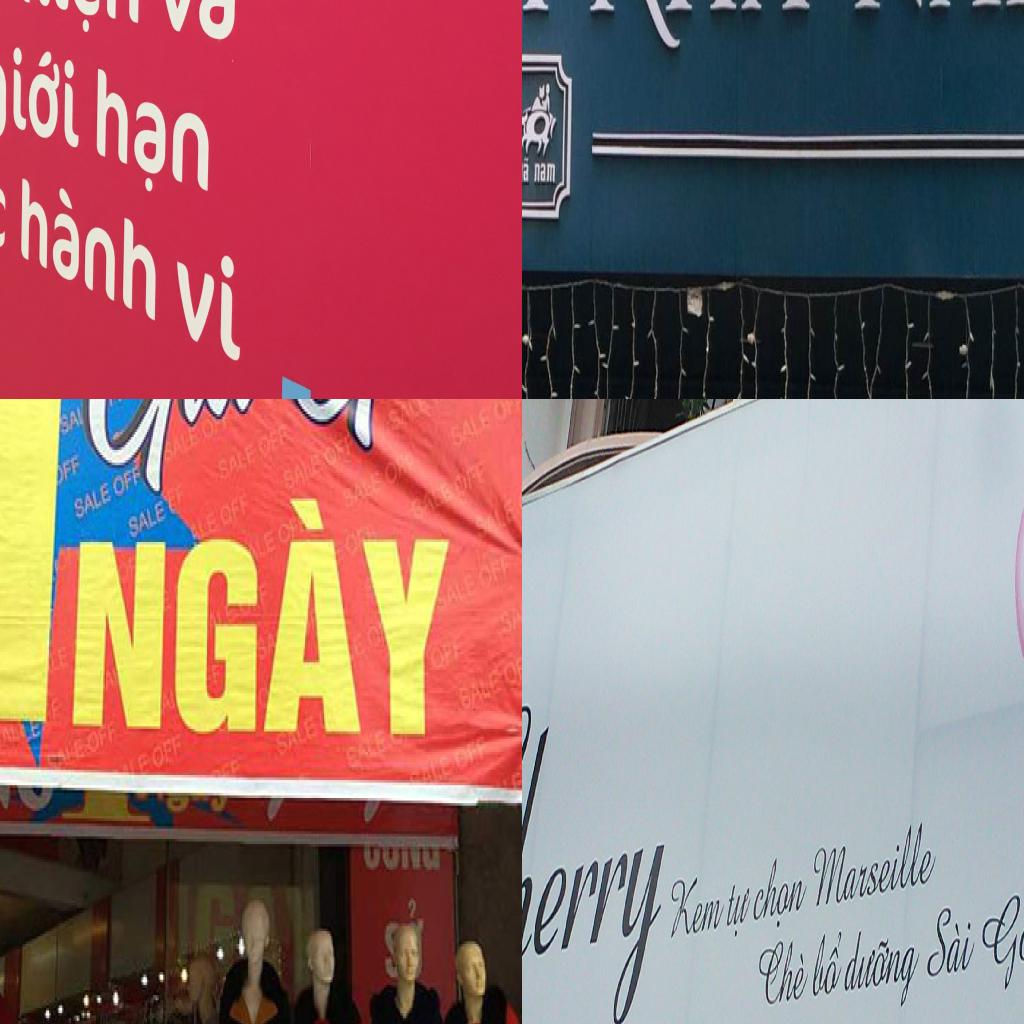text: (68, 486, 459, 742), (522, 694, 684, 1024), (0, 399, 75, 736), (17, 168, 165, 328), (70, 399, 296, 500), (90, 61, 220, 213), (259, 399, 521, 462), (556, 0, 817, 59), (808, 815, 940, 914), (0, 31, 81, 160), (173, 234, 249, 367), (839, 919, 923, 1018), (15, 0, 146, 42), (750, 847, 811, 936), (924, 900, 980, 982), (752, 934, 812, 1008), (667, 869, 729, 939), (154, 0, 237, 41), (809, 927, 846, 1003), (456, 662, 505, 719), (447, 399, 496, 455), (472, 488, 520, 545), (408, 476, 458, 530), (343, 726, 390, 775), (476, 544, 517, 596), (280, 450, 326, 496), (722, 878, 755, 942), (126, 498, 170, 544), (216, 440, 260, 486), (340, 468, 384, 514), (431, 626, 466, 680), (74, 478, 115, 524), (454, 455, 492, 504), (162, 422, 202, 468), (385, 399, 432, 437), (150, 729, 188, 775), (454, 732, 491, 778), (382, 445, 418, 491), (323, 427, 356, 473), (220, 488, 254, 532), (111, 462, 144, 504), (86, 718, 119, 760), (498, 588, 522, 642), (0, 716, 30, 759), (428, 747, 456, 785), (501, 644, 522, 692), (58, 401, 82, 442), (494, 399, 522, 432), (72, 731, 88, 765), (429, 399, 467, 408), (106, 399, 128, 414), (522, 152, 530, 186)
